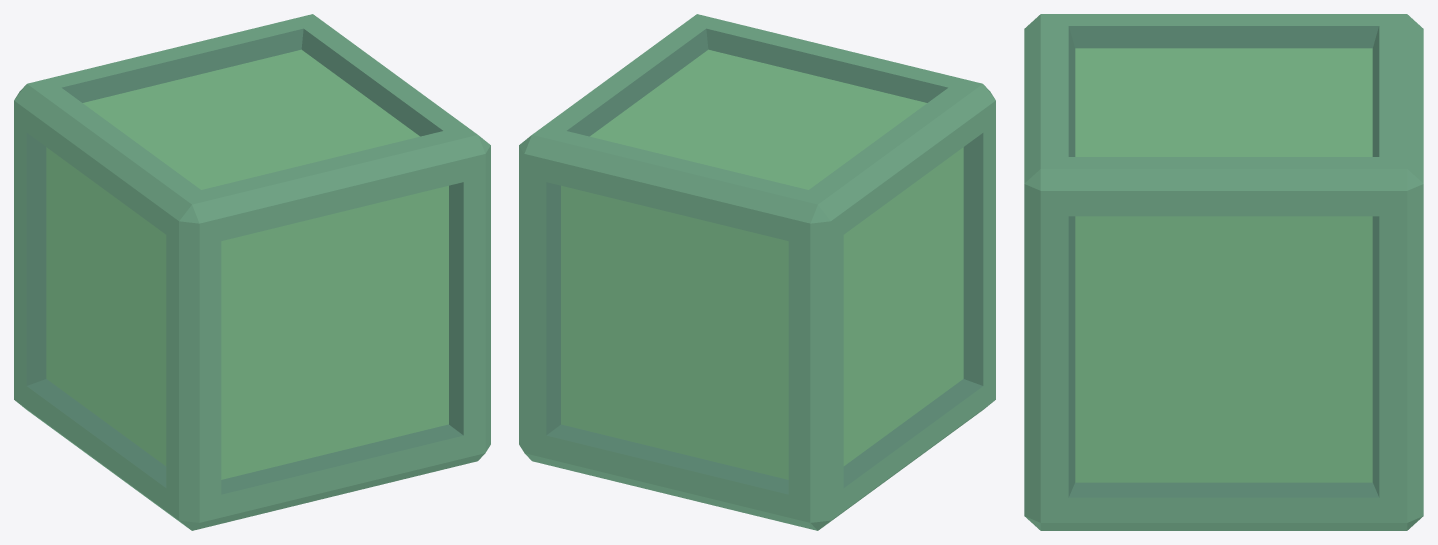
The picture shows the model from 3 angles, left to right: view 1: azimuth 30°, elevation 25°; view 2: azimuth 150°, elevation 25°; view 3: azimuth 270°, elevation 25°; orthographic projection. The views are drawn at different scales.
Parts seen in each view (by area): view 1: cube-b; view 2: cube-b; view 3: cube-b.
Part boxes in pixels (box(x1,y1,x2,y2)): cube-b: box(14, 14, 490, 530); cube-b: box(519, 14, 995, 530); cube-b: box(1024, 14, 1423, 530).
Bounding box in the file's own units: 1 × 1 × 1.
Materials: 1 (1 with a texture image).
